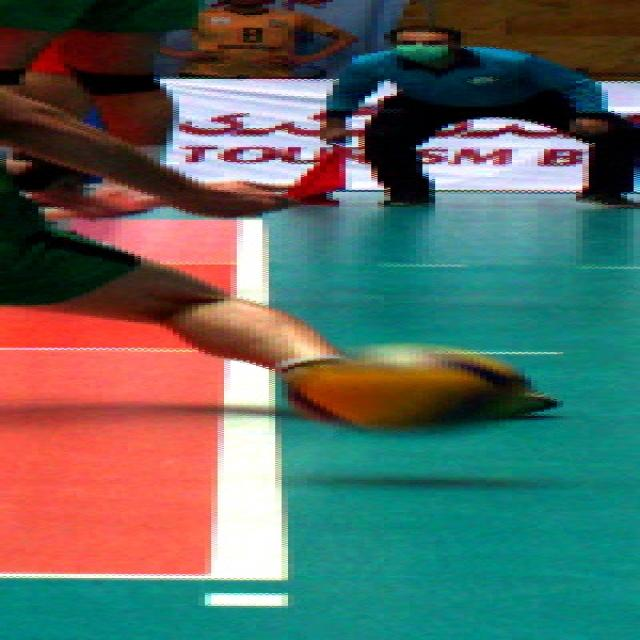Volleyball: (280, 346, 532, 432)
